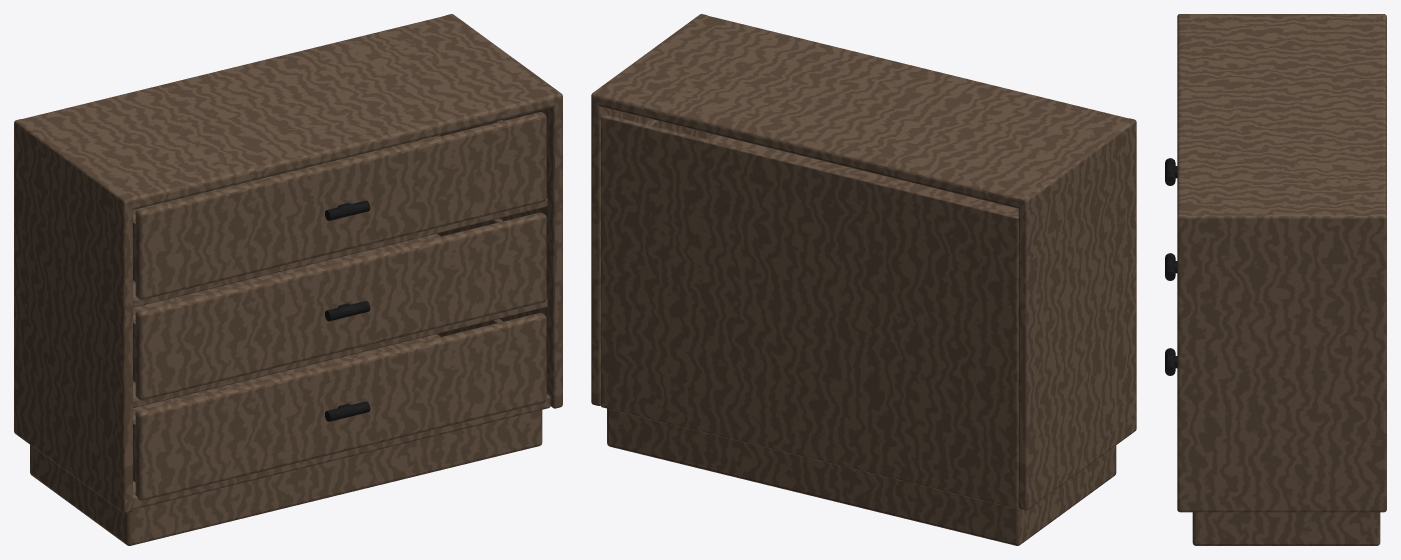
The model's file is FUR_Dresser.fbx.
The picture shows the model from 3 angles, left to right: view 1: azimuth 30°, elevation 25°; view 2: azimuth 150°, elevation 25°; view 3: azimuth 270°, elevation 25°; orthographic projection. The views are drawn at different scales.
Visible parts, largest first — view 1: Dresser_Body, Dresser_Drawer_Mid, Dresser_Drawer_Bot, Dresser_Drawer_Top; view 2: Dresser_Body, Dresser_Drawer_Top; view 3: Dresser_Body, Dresser_Drawer_Bot, Dresser_Drawer_Mid, Dresser_Drawer_Top.
Boxes of the visible parts, x1,y1,x2,y2 form: Dresser_Body: [14, 14, 562, 545]; Dresser_Drawer_Mid: [133, 212, 546, 400]; Dresser_Drawer_Bot: [133, 313, 546, 500]; Dresser_Drawer_Top: [133, 112, 546, 299]; Dresser_Body: [591, 14, 1136, 545]; Dresser_Drawer_Top: [645, 119, 1018, 215]; Dresser_Body: [1177, 14, 1386, 545]; Dresser_Drawer_Bot: [1165, 348, 1177, 375]; Dresser_Drawer_Mid: [1165, 253, 1177, 280]; Dresser_Drawer_Top: [1165, 158, 1177, 185].
Size of the model in its own units: 110 by 85 by 50.8.
